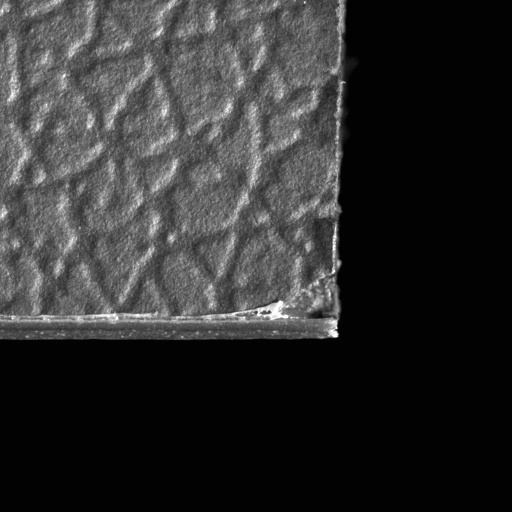bengque: (271, 273, 341, 322)
